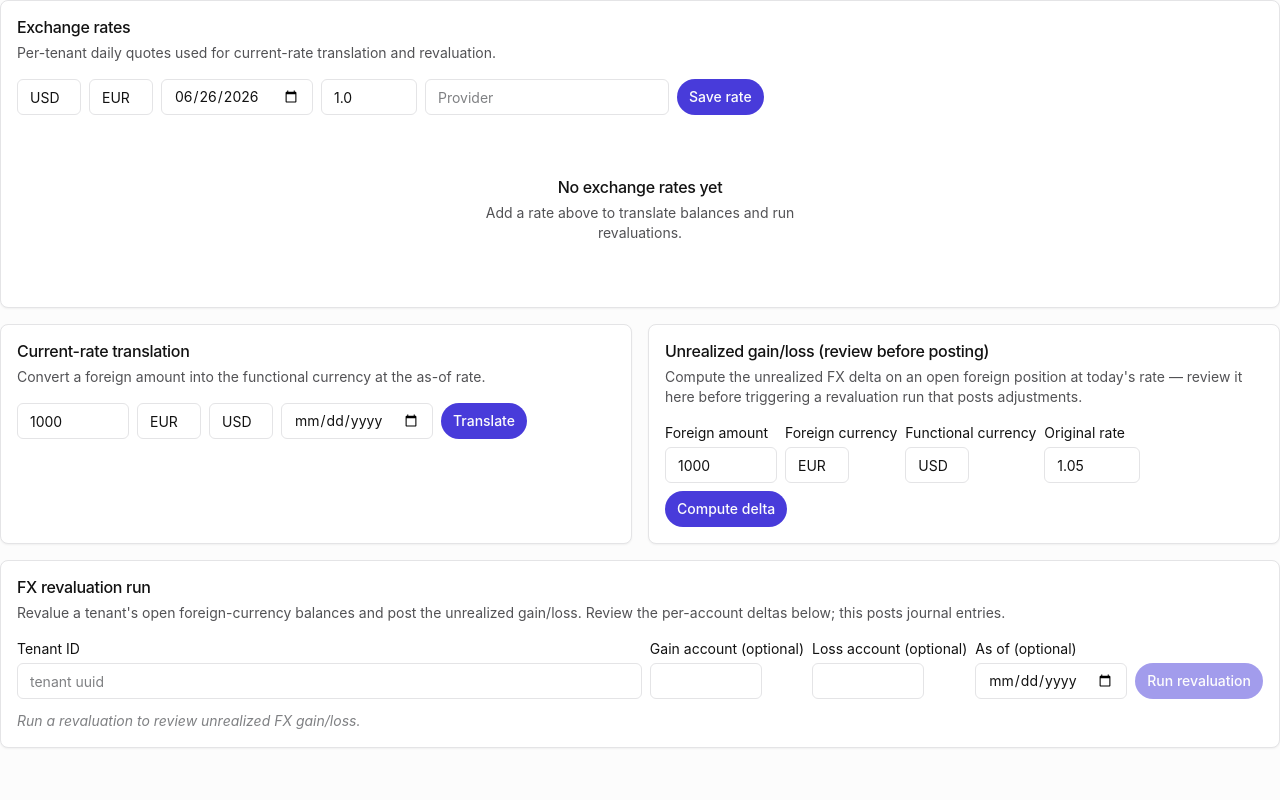
it: FxReviewPanel › translates an amount at the current rate
The width and height of the screenshot is (1280, 800).
Click the button "Translate" at (484, 421), box [441,403,527,439]
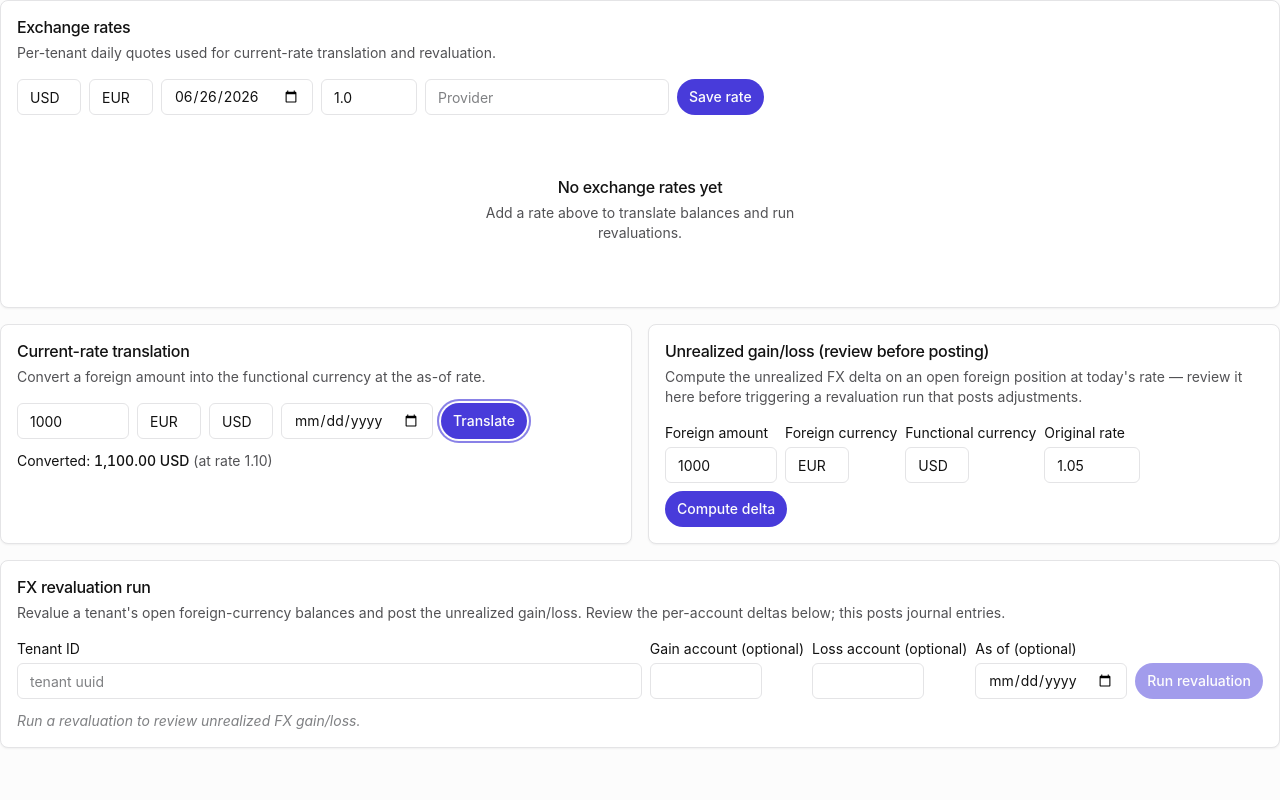
Check: the text "1,100.00 USD" is shown, box [94,452,189,469]
